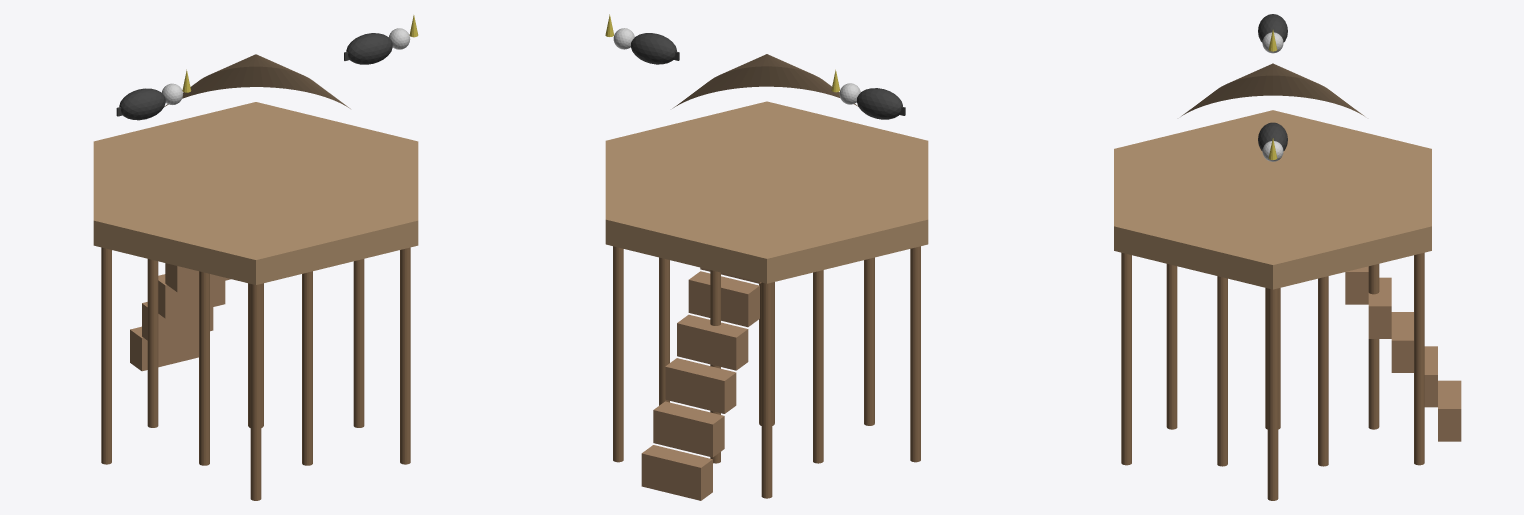
File: rumah_sebujit.glb
The picture shows the model from 3 angles, left to right: view 1: azimuth 30°, elevation 25°; view 2: azimuth 150°, elevation 25°; view 3: azimuth 270°, elevation 25°; orthographic projection. The views are drawn at different scales.
Parts seen in each view (by area): view 1: platform, roof, pillar_4, pillar_3, pillar_5, pillar_9, pillar_10, pillar_8, pillar_11, step_0, step_2, step_1 (+4 smaller); view 2: platform, step_0, step_1, step_2, step_3, roof, step_4, pillar_2, pillar_1, pillar_3, pillar_8, pillar_9 (+5 smaller); view 3: platform, roof, pillar_0, pillar_1, pillar_5, pillar_6, pillar_11, pillar_10, step_0, pillar_7, step_2, step_3 (+5 smaller).
Boxes of the visible parts, x1,y1,x2,y2 form: platform: (93, 102, 418, 284); roof: (164, 54, 350, 108); pillar_4: (250, 284, 261, 500); pillar_3: (101, 247, 111, 464); pillar_5: (400, 247, 410, 464); pillar_9: (199, 271, 209, 465); pillar_10: (302, 271, 312, 465); pillar_8: (147, 259, 158, 427); pillar_11: (353, 259, 364, 427); step_0: (130, 326, 198, 371); step_2: (158, 274, 225, 318); step_1: (142, 302, 213, 343); platform: (605, 101, 928, 283); step_0: (641, 445, 712, 500); step_1: (653, 401, 724, 457); step_2: (665, 358, 736, 413); step_3: (677, 314, 748, 370); roof: (672, 54, 857, 108); step_4: (688, 271, 759, 327); pillar_2: (761, 282, 772, 498); pillar_1: (613, 246, 623, 462); pillar_3: (910, 246, 920, 462); pillar_8: (813, 270, 823, 463); pillar_9: (864, 257, 874, 425); platform: (1114, 110, 1431, 289); roof: (1181, 63, 1364, 116); pillar_0: (1267, 288, 1278, 500); pillar_1: (1414, 252, 1424, 465); pillar_5: (1121, 252, 1131, 465); pillar_6: (1318, 276, 1328, 466); pillar_11: (1217, 276, 1227, 466); pillar_10: (1166, 264, 1177, 429); step_0: (1438, 380, 1461, 441); pillar_7: (1368, 264, 1379, 429); step_2: (1391, 312, 1413, 372); step_3: (1368, 277, 1391, 338).
Bounding box in the file's own units: 4.91 × 4.18 × 4.91.
